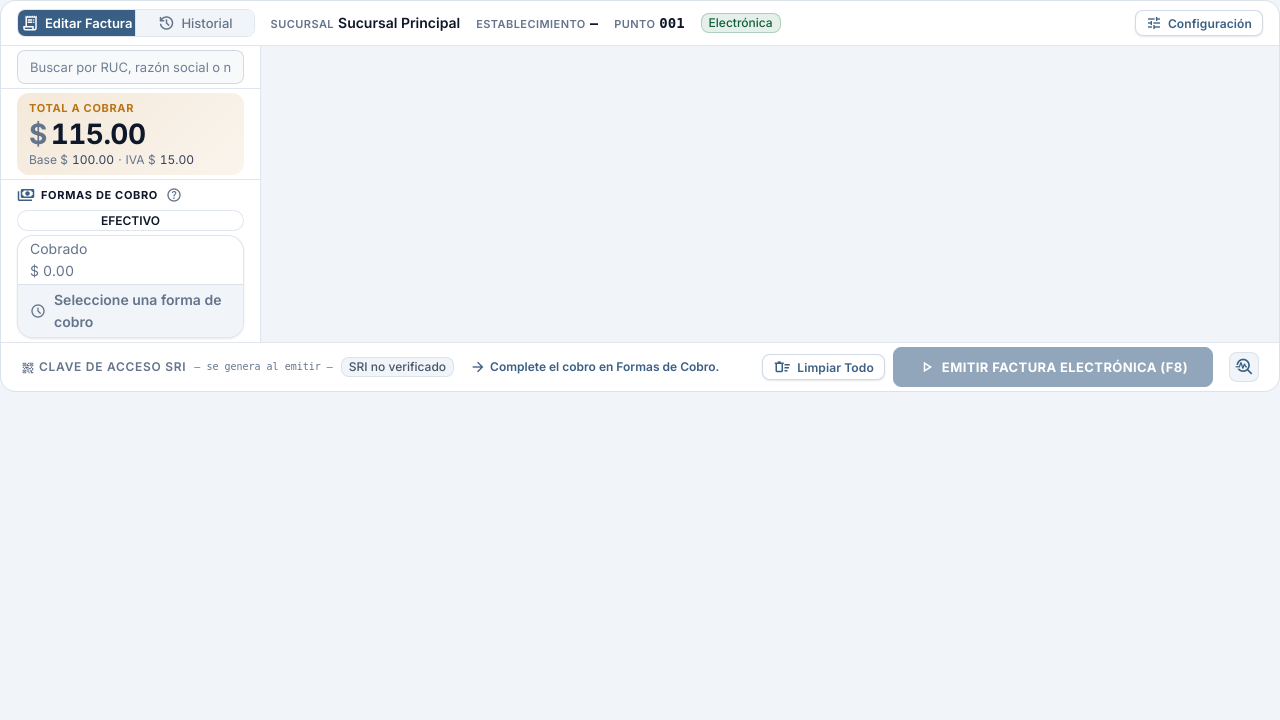
SalesPage — orden de secciones del sidebar (SALES-POS-SIDEBAR-SECTION-ORDER-01) › el modal de "Configuración" sigue abriendo desde su nueva posición
Step 1. Click the button "Configuración" → (1199, 23), box [1135, 10, 1263, 36]
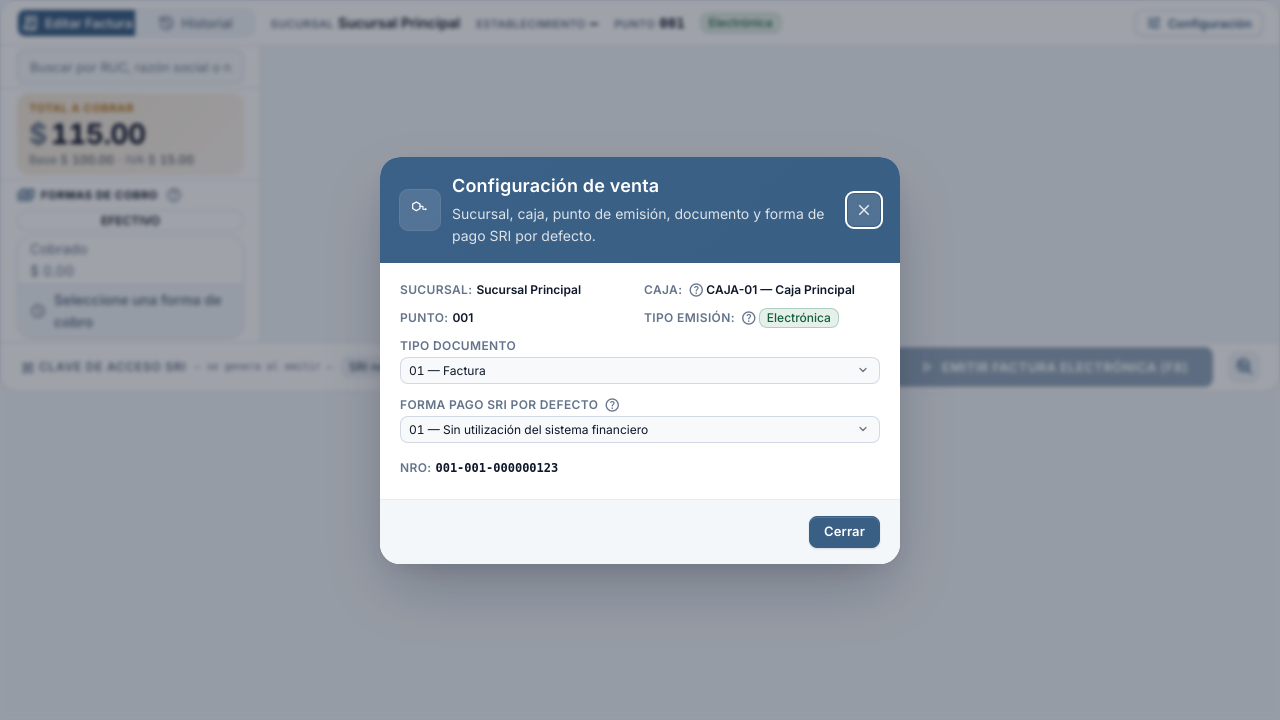
Check: the dialog is shown
